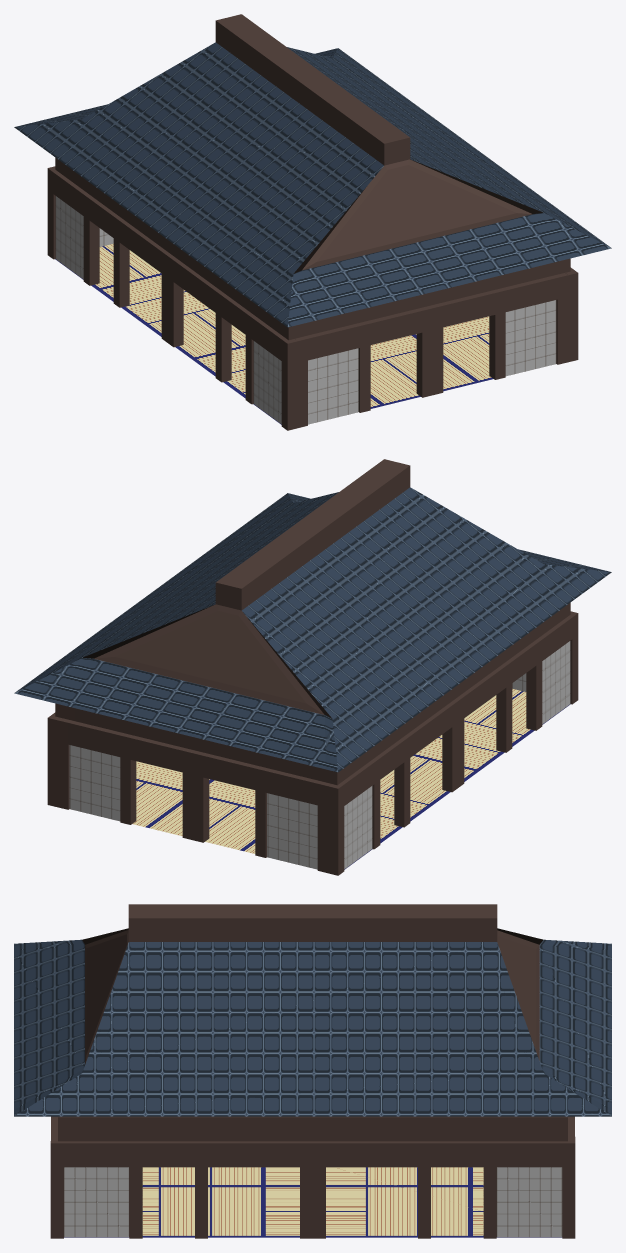
The model's file is dojo.fbx.
3 renders of one model, top to bottom at view 1: azimuth 30°, elevation 25°; view 2: azimuth 150°, elevation 25°; view 3: azimuth 270°, elevation 25°, orthographic. The views are drawn at different scales.
Parts seen in each view (by area): view 1: Cube, Plane, Doors; view 2: Cube, Plane, Doors; view 3: Cube, Plane, Doors.
Part boxes in pixels (x1=…): Cube: x1=14, y1=14, x2=611, y2=430; Plane: x1=55, y1=243, x2=493, y2=424; Doors: x1=55, y1=196, x2=556, y2=424; Cube: x1=14, y1=459, x2=611, y2=875; Plane: x1=132, y1=689, x2=570, y2=869; Doors: x1=69, y1=641, x2=570, y2=869; Cube: x1=14, y1=904, x2=611, y2=1238; Plane: x1=64, y1=1167, x2=561, y2=1237; Doors: x1=64, y1=1167, x2=562, y2=1237.
Size of the model in its own units: 3120 by 2101 by 4560.
Materials: 6 (4 with a texture image).
